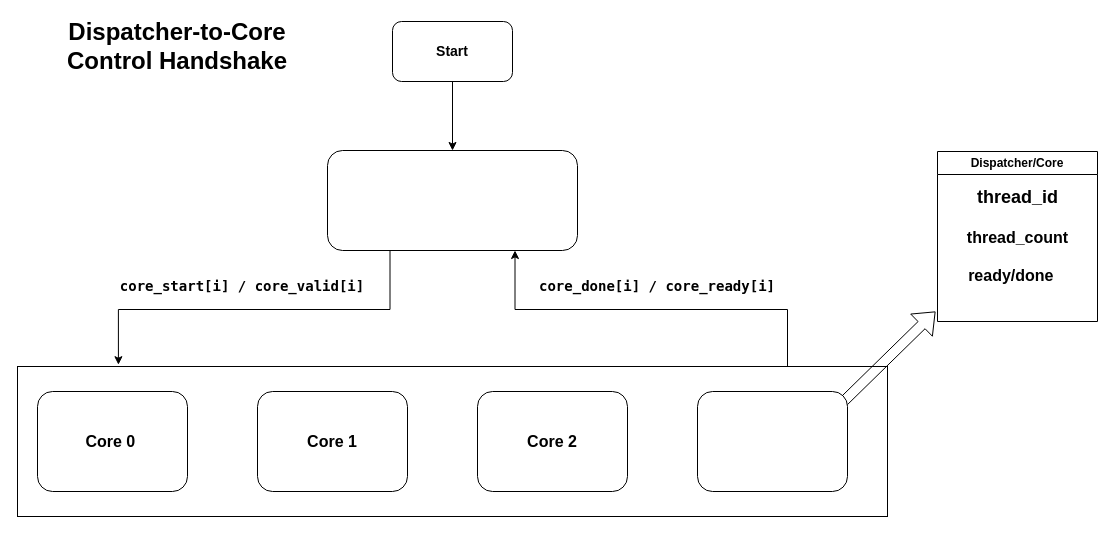
The diagram is 1115 pixels wide and 534 high, and some of its shapes have lost their labels. Each missing label, with the centre of its shape:
"Core 3" goes at (x=772, y=441).
"Dispatcher" goes at (x=452, y=200).
